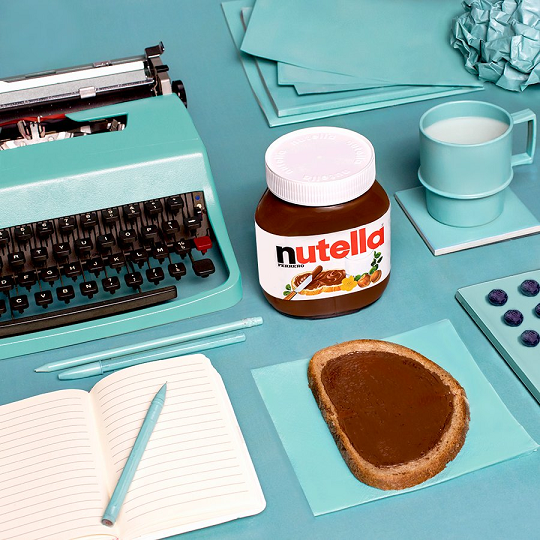nutella: (254, 125, 391, 320)
